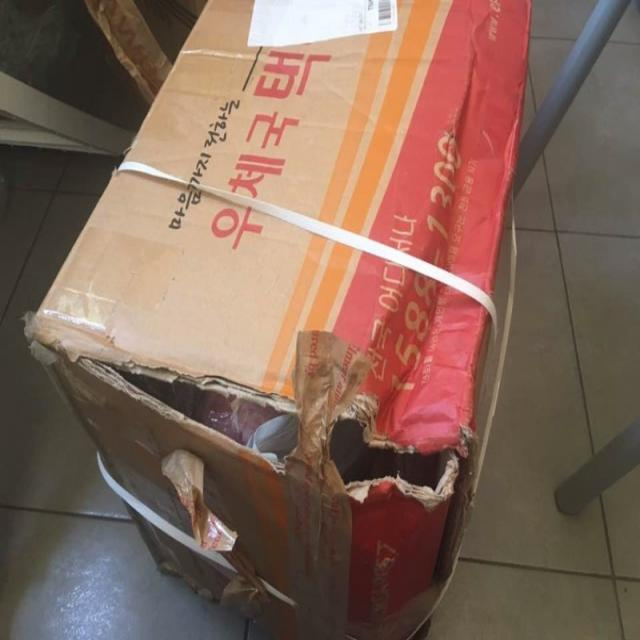damaged: (83, 358, 463, 499)
